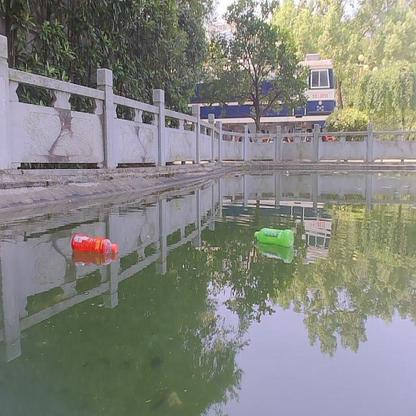plastic bottle: (71, 233, 118, 255), (253, 228, 295, 246)
